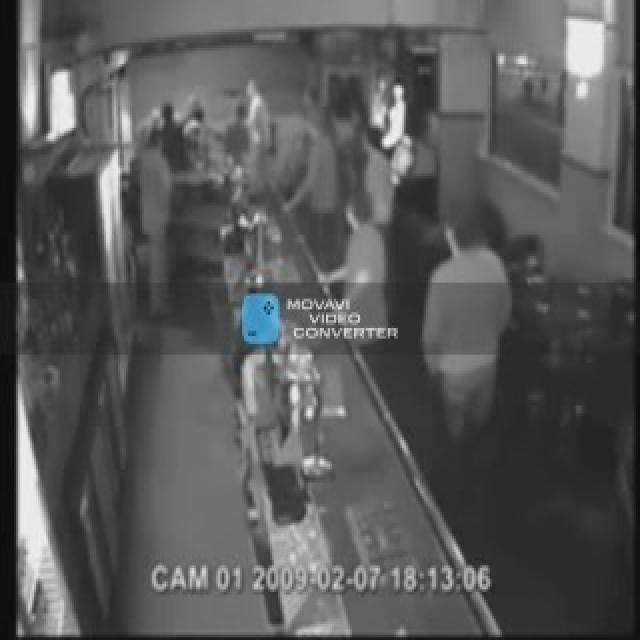non-voilence: (12, 0, 634, 635)
